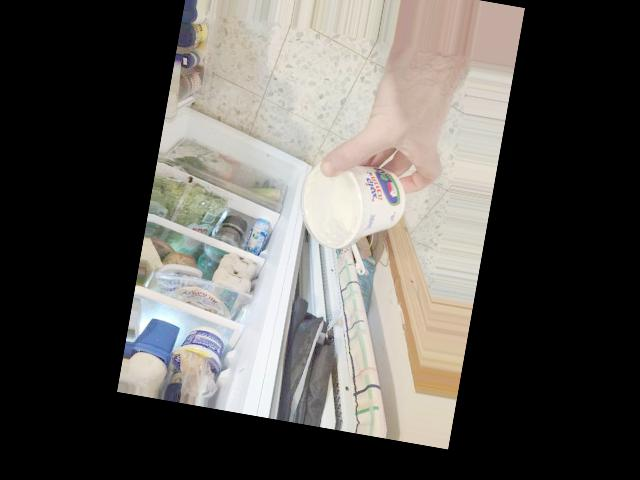cotage: (312, 160, 406, 251)
